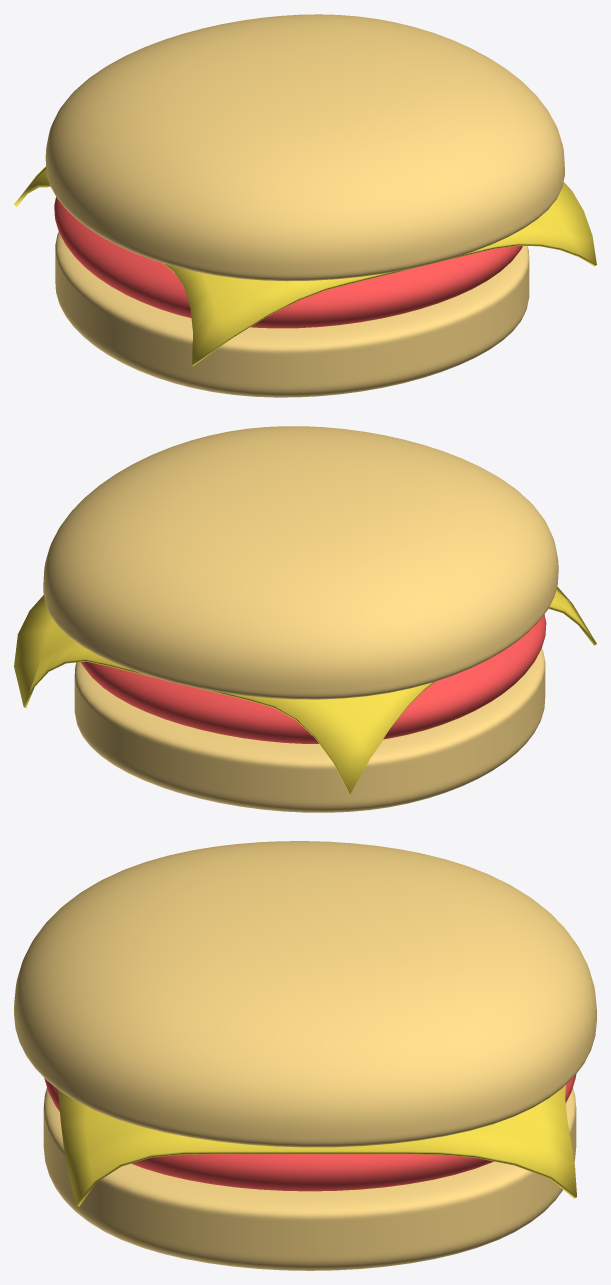
File: Burger.glb
3 renders of one model, top to bottom at view 1: azimuth 30°, elevation 25°; view 2: azimuth 150°, elevation 25°; view 3: azimuth 270°, elevation 25°, orthographic. The views are drawn at different scales.
Visible parts, largest first — view 1: Cube.002, Cube, Cube.001, Plane; view 2: Cube.002, Cube, Cube.001, Plane; view 3: Cube.002, Cube, Plane, Cube.001.
Part boxes in pixels (x1=…): Cube.002: x1=45, y1=14, x2=564, y2=281; Cube: x1=55, y1=232, x2=529, y2=397; Cube.001: x1=54, y1=197, x2=522, y2=328; Plane: x1=14, y1=166, x2=596, y2=365; Cube.002: x1=43, y1=426, x2=558, y2=699; Cube: x1=74, y1=648, x2=545, y2=812; Cube.001: x1=81, y1=614, x2=546, y2=743; Plane: x1=14, y1=587, x2=596, y2=794; Cube.002: x1=14, y1=841, x2=596, y2=1147; Cube: x1=43, y1=1088, x2=576, y2=1270; Plane: x1=58, y1=1085, x2=576, y2=1206; Cube.001: x1=44, y1=1074, x2=576, y2=1191.
Bounding box in the file's own units: 11.38 × 6.12 × 11.38.
